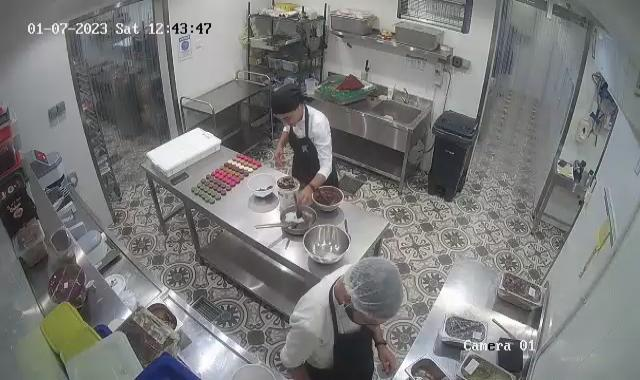hairnet: (342, 257, 406, 329)
no_hairnet: (268, 79, 304, 124)
